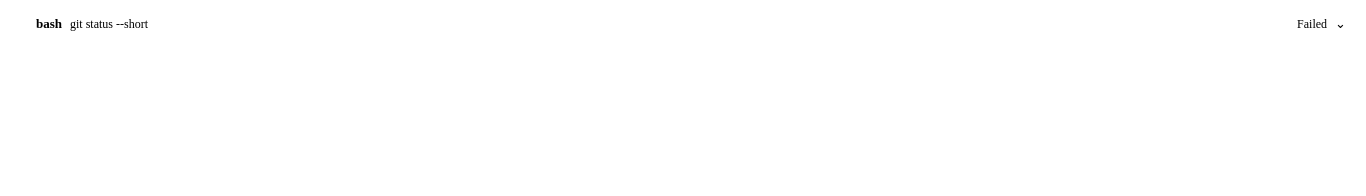
Scenario: ToolCallCard › expands to show the tool output
Click the button at (109, 24), box [8,8,1358,40]
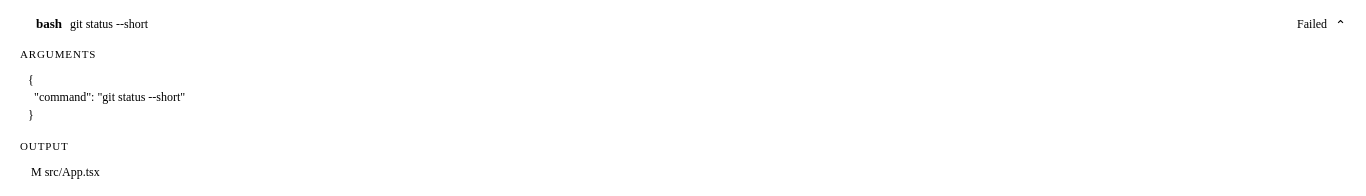
Expected: the text with class "gc-tool__pre--output" reads "M src/App.tsx", [28,165,100,179]
